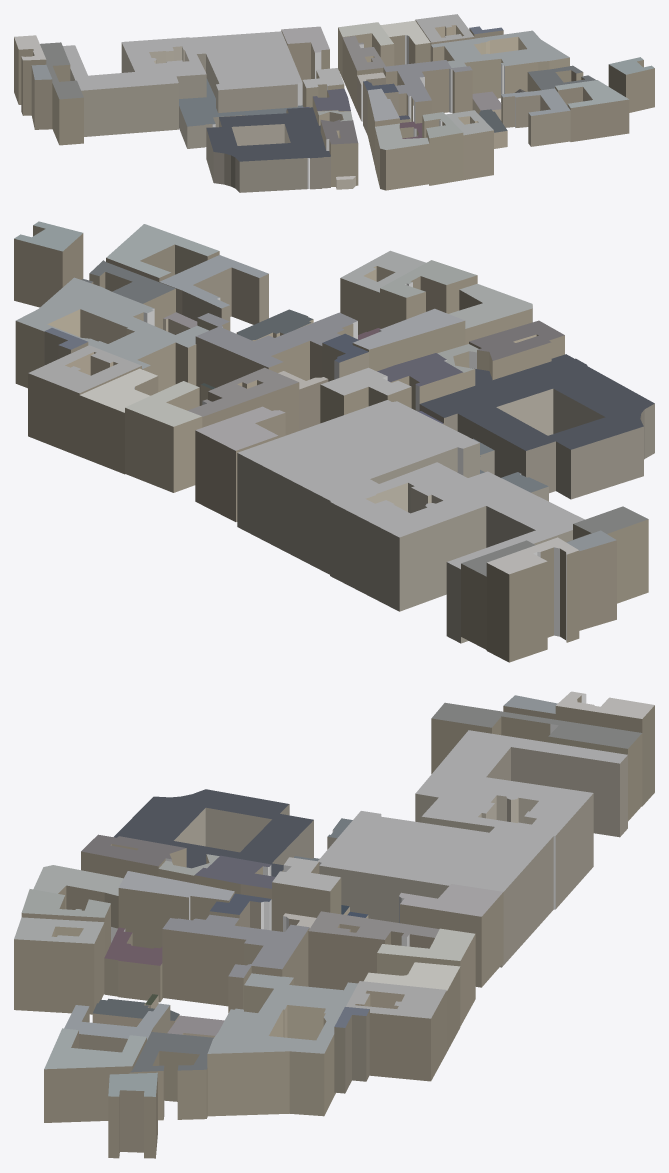
The picture shows the model from 3 angles, top to bottom: view 1: azimuth 30°, elevation 25°; view 2: azimuth 150°, elevation 25°; view 3: azimuth 270°, elevation 25°; orthographic projection. The views are drawn at different scales.
Parts seen in each view (by area): view 1: tuile; view 2: tuile; view 3: tuile.
Part boxes in pixels (x1=…): tuile: x1=14, y1=14, x2=654, y2=192; tuile: x1=14, y1=221, x2=654, y2=662; tuile: x1=14, y1=691, x2=654, y2=1158.
Bounding box in the file's own units: 263 × 30.19 × 187.
